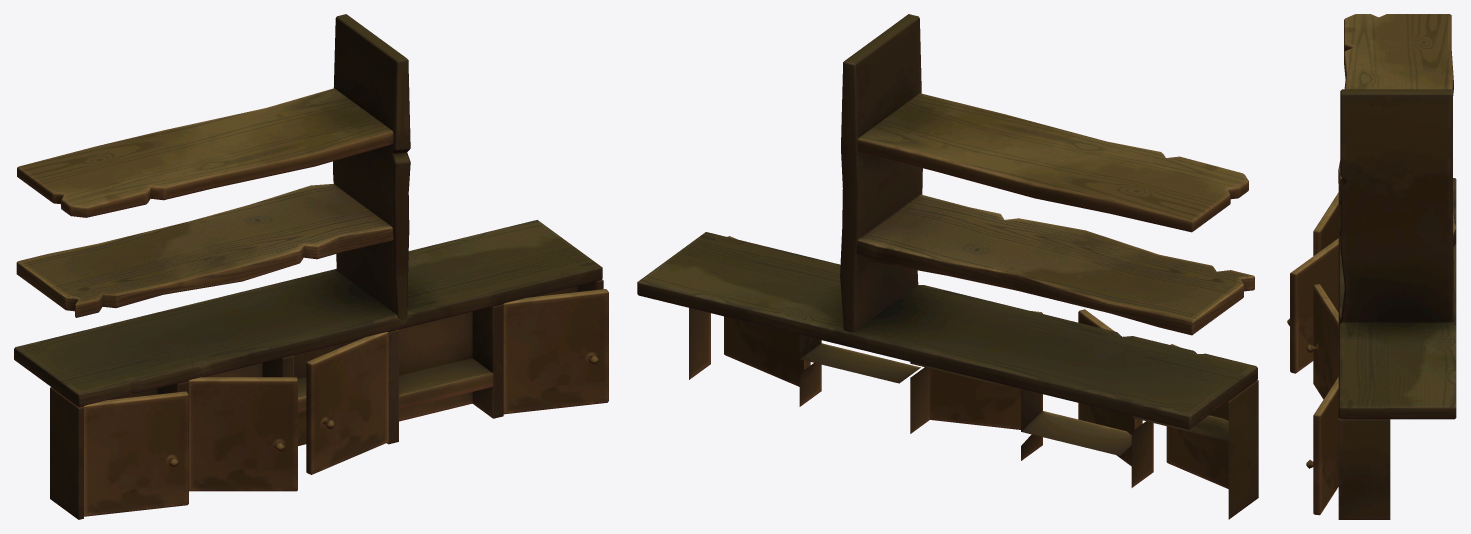
The model's file is SM_BarShelf.gltf.
3 renders of one model, left to right at view 1: azimuth 30°, elevation 25°; view 2: azimuth 150°, elevation 25°; view 3: azimuth 270°, elevation 25°, orthographic. The views are drawn at different scales.
Visible parts, largest first — view 1: SM_BarShelf; view 2: SM_BarShelf; view 3: SM_BarShelf.
Boxes of the visible parts, <box> form: SM_BarShelf: <box>14,14,608,519</box>; SM_BarShelf: <box>637,14,1258,519</box>; SM_BarShelf: <box>1287,14,1456,519</box>.
Size of the model in its own units: 3.11 by 2.15 by 0.9659.
Materials: 1 (1 with a texture image).
